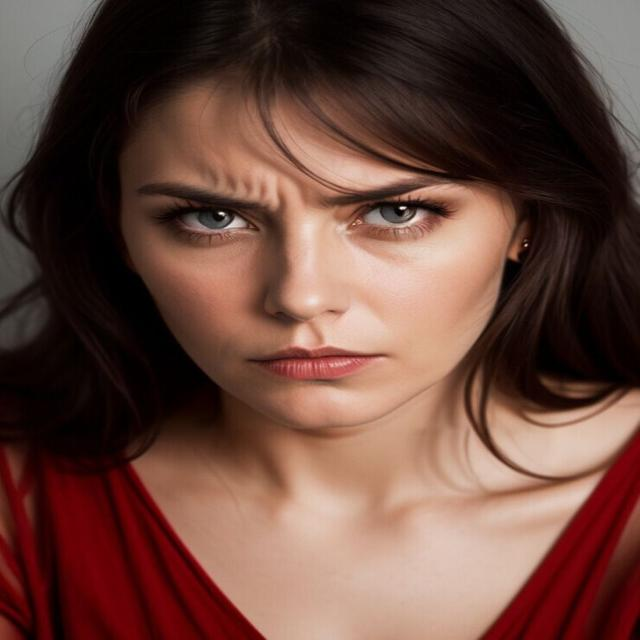sem_oculos: (86, 175, 552, 236)
